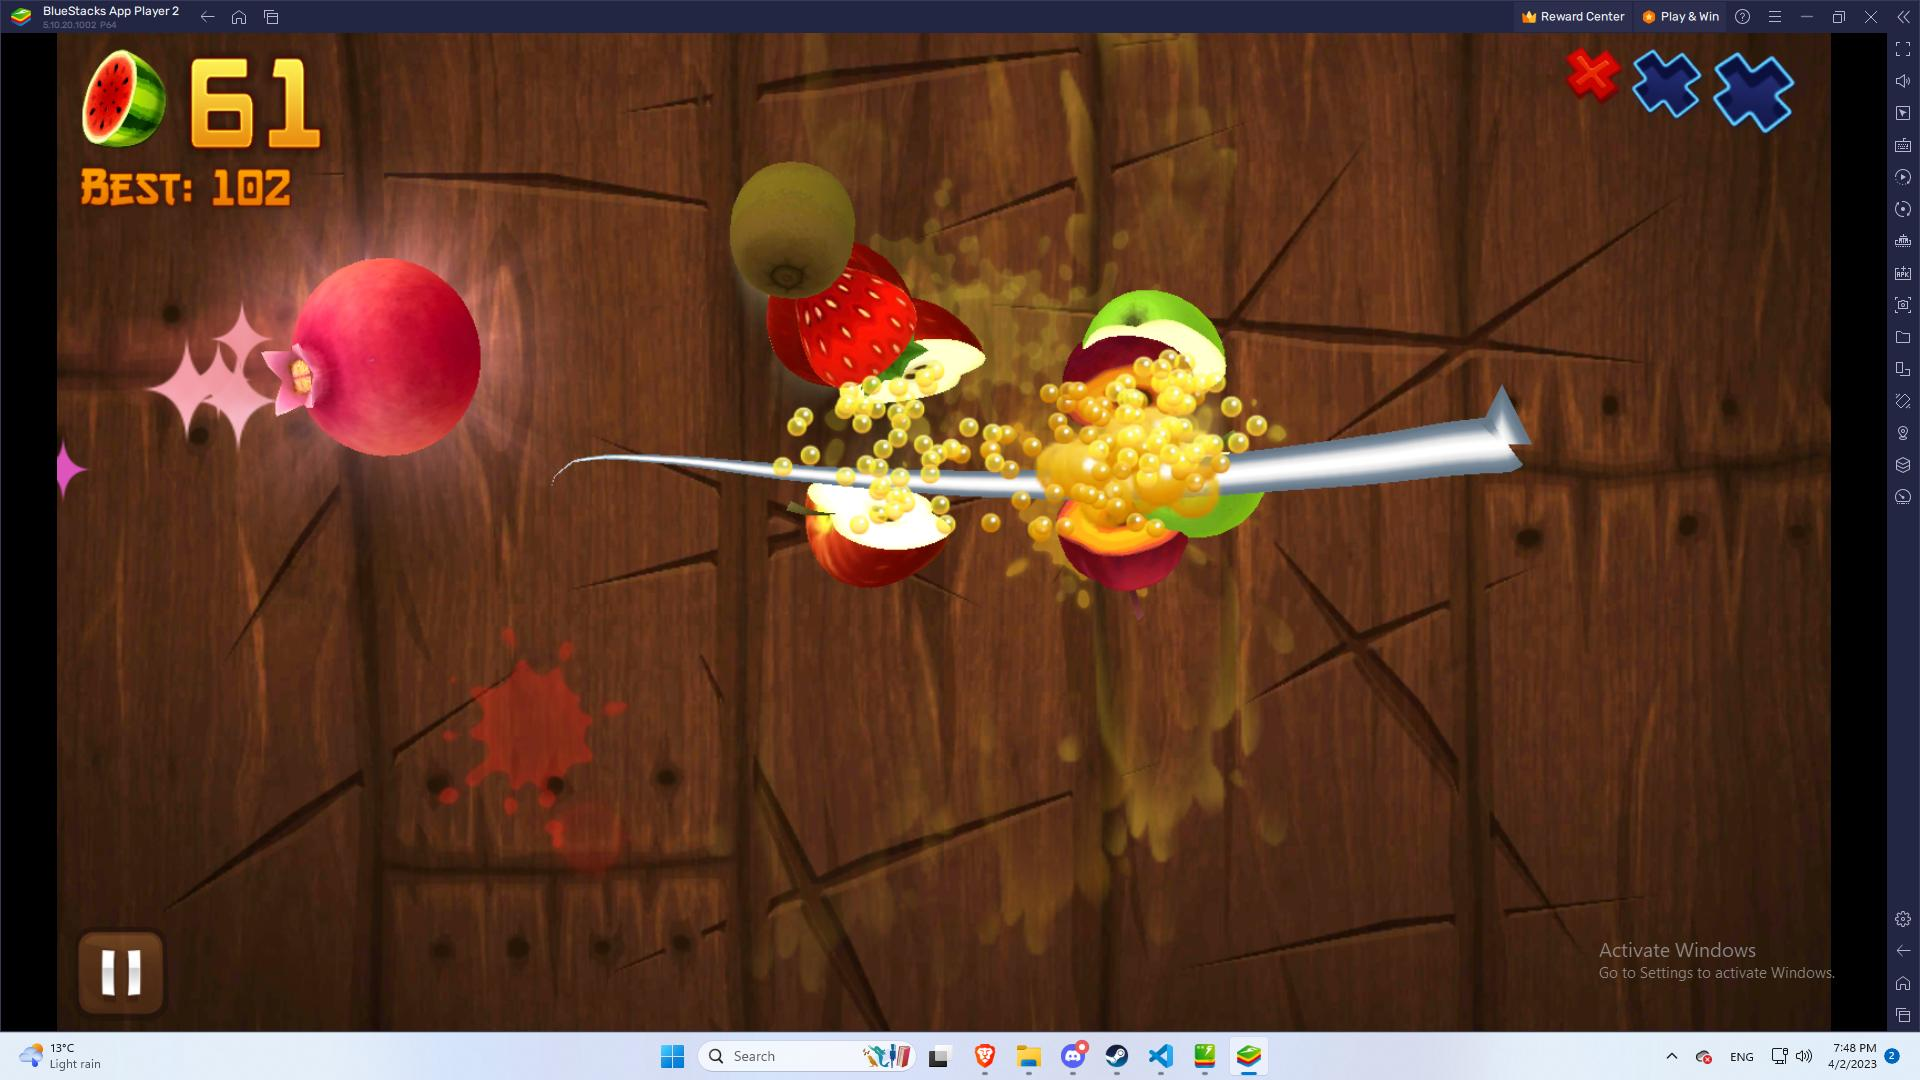fruit: (249, 241, 491, 475)
